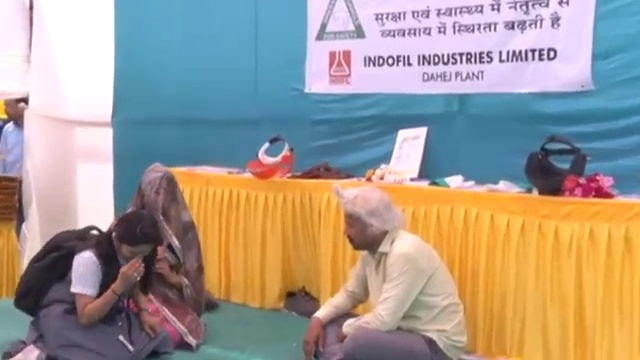helmet_off: (335, 190, 399, 265), (132, 171, 182, 235), (103, 212, 164, 262), (0, 92, 31, 123)
person: (295, 194, 471, 360), (31, 192, 186, 346), (131, 170, 221, 348), (0, 88, 37, 178)
